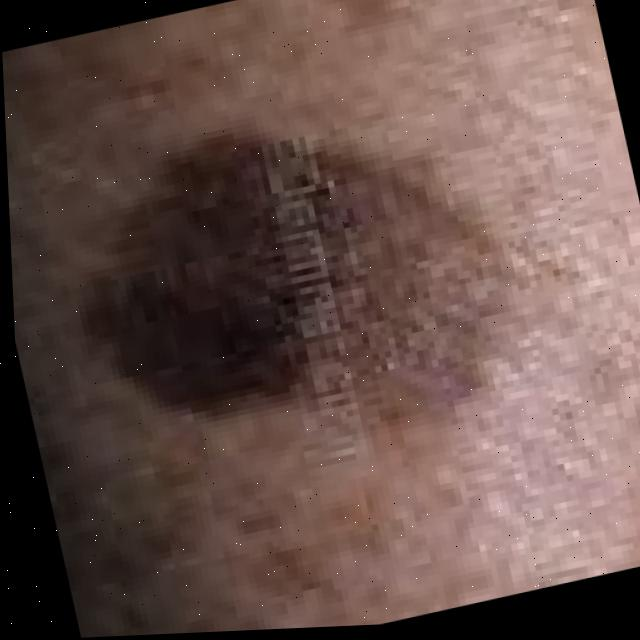Melasma: (92, 119, 470, 457)
